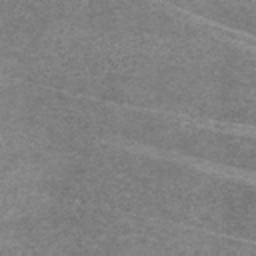Finishing roll printing: (1, 72, 255, 140), (173, 8, 256, 42)
